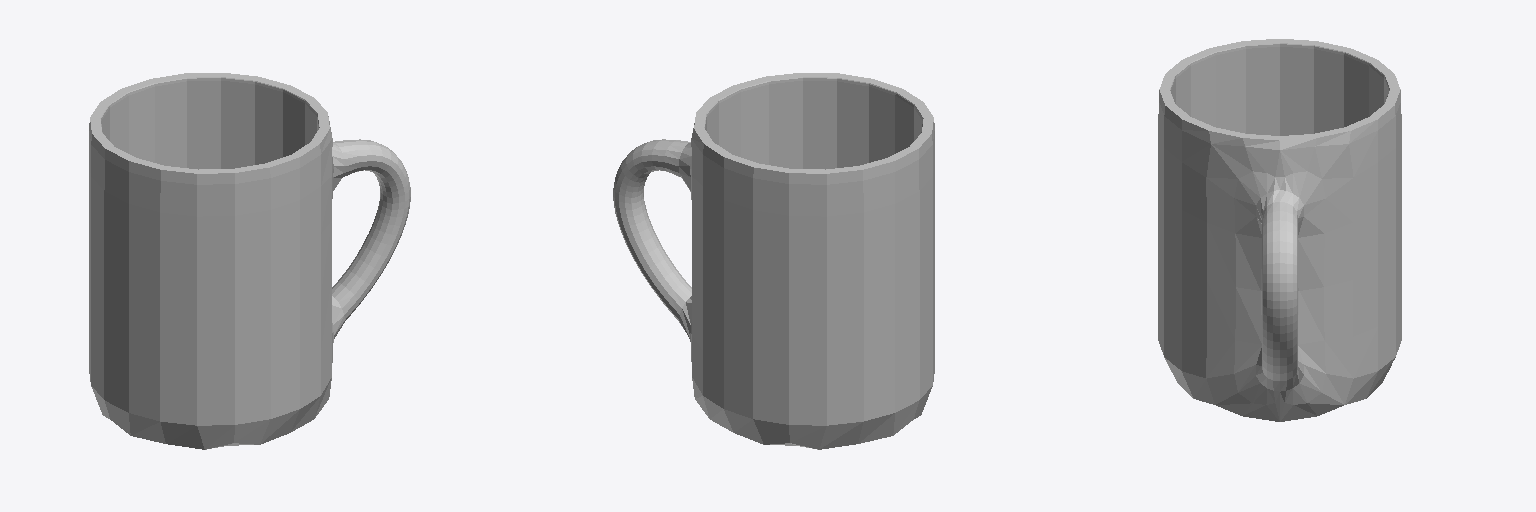
Rendered from mud.obj.
3 renders of one model, left to right at view 1: azimuth 30°, elevation 25°; view 2: azimuth 150°, elevation 25°; view 3: azimuth 270°, elevation 25°, orthographic.
Parts seen in each view (by area): view 1: pPipe2; view 2: pPipe2; view 3: pPipe2.
Boxes of the visible parts, box(x1,y1,x2,y2) form: pPipe2: box(89, 73, 410, 449); pPipe2: box(613, 73, 934, 449); pPipe2: box(1158, 39, 1401, 421).
Size of the model in its own units: 7.59 by 6.89 by 5.28.